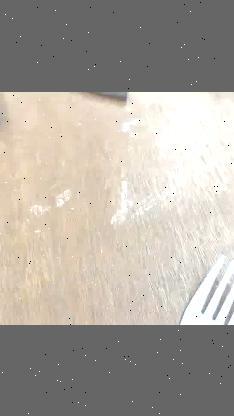Others: (177, 249, 234, 324)
